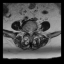CCS_normal: (30, 29, 31, 37)
LFS_stenosis: (33, 28, 35, 34)
LLS_normal: (31, 29, 33, 36)
RFS_stenosis: (26, 29, 28, 34)
RLS_stenosis: (28, 29, 30, 36)
